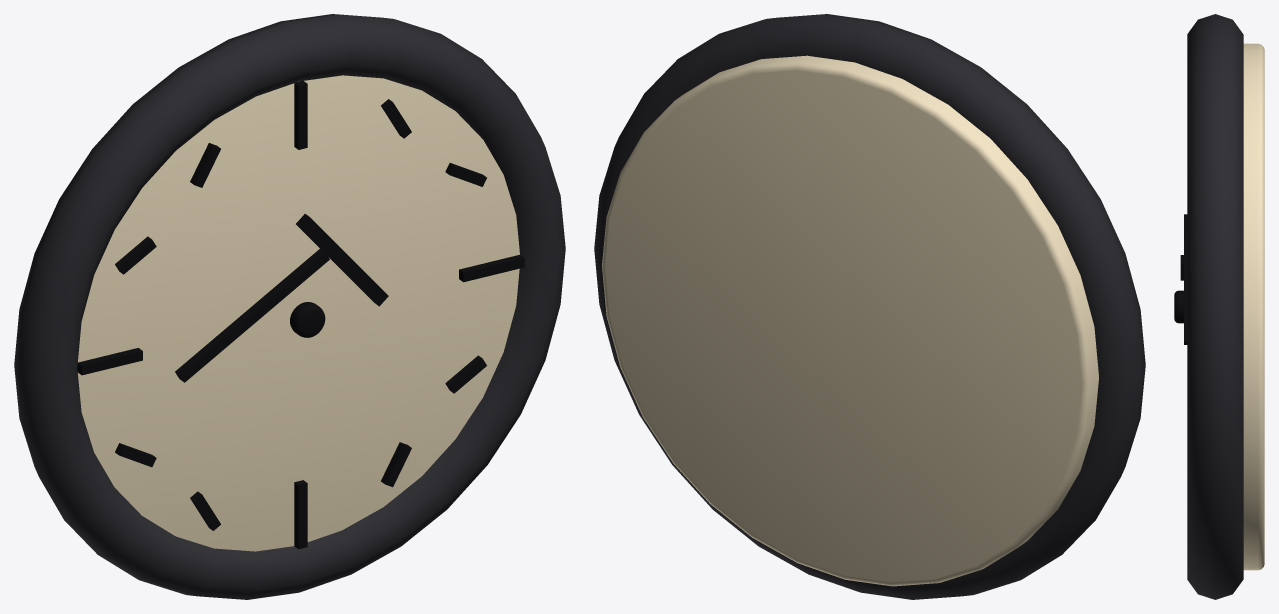
Rendered from clock.glb.
The picture shows the model from 3 angles, left to right: view 1: azimuth 30°, elevation 25°; view 2: azimuth 150°, elevation 25°; view 3: azimuth 270°, elevation 25°; orthographic projection. The views are drawn at different scales.
Parts seen in each view (by area): view 1: clock; view 2: clock; view 3: clock.
Part boxes in pixels (x1,y1,x2,y2): clock: (14, 14, 565, 599); clock: (594, 14, 1145, 599); clock: (1174, 14, 1264, 599).
Bounding box in the file's own units: 0.356 × 0.356 × 0.055.
